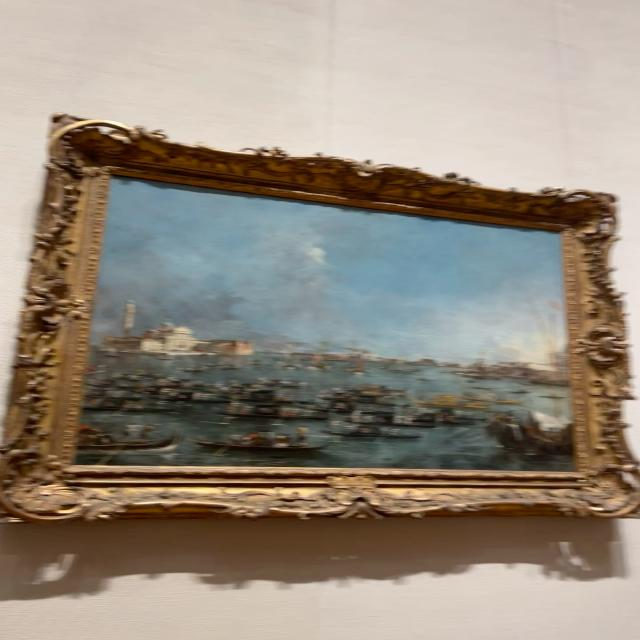ships: (75, 178, 570, 466)
